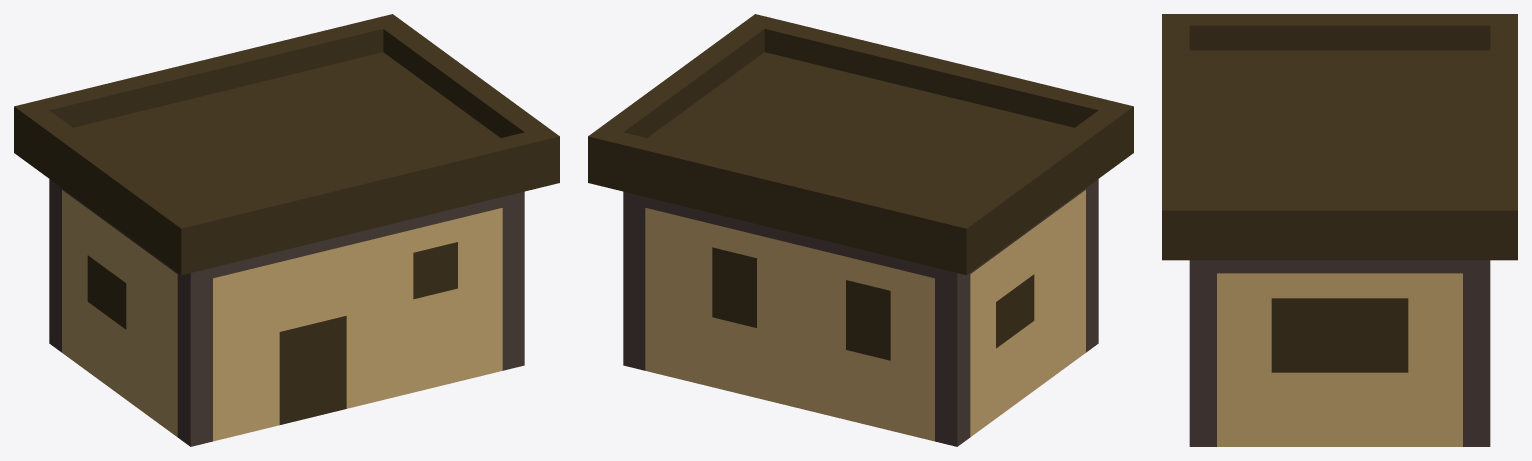
Rendered from house-flat.obj.
The picture shows the model from 3 angles, left to right: view 1: azimuth 30°, elevation 25°; view 2: azimuth 150°, elevation 25°; view 3: azimuth 270°, elevation 25°; orthographic projection. The views are drawn at different scales.
Parts seen in each view (by area): view 1: house-flat; view 2: house-flat; view 3: house-flat.
Part boxes in pixels (x1,y1,x2,y2): house-flat: (14, 14, 559, 446); house-flat: (588, 14, 1133, 446); house-flat: (1162, 14, 1517, 446).
Bounding box in the file's own units: 17 × 10 × 13.
Materials: 1 (1 with a texture image).
